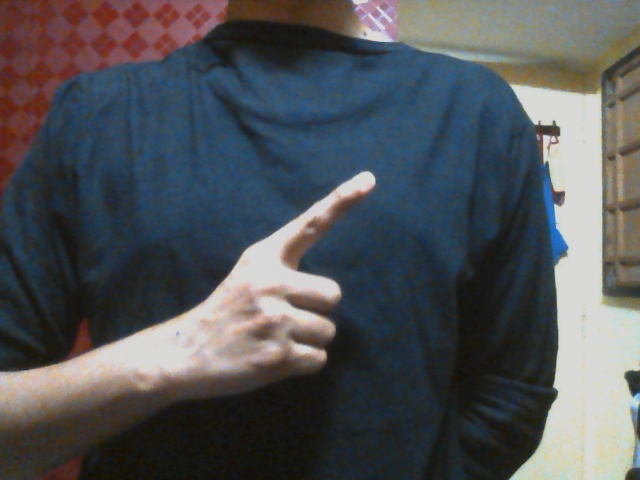I: (200, 169, 378, 396)
